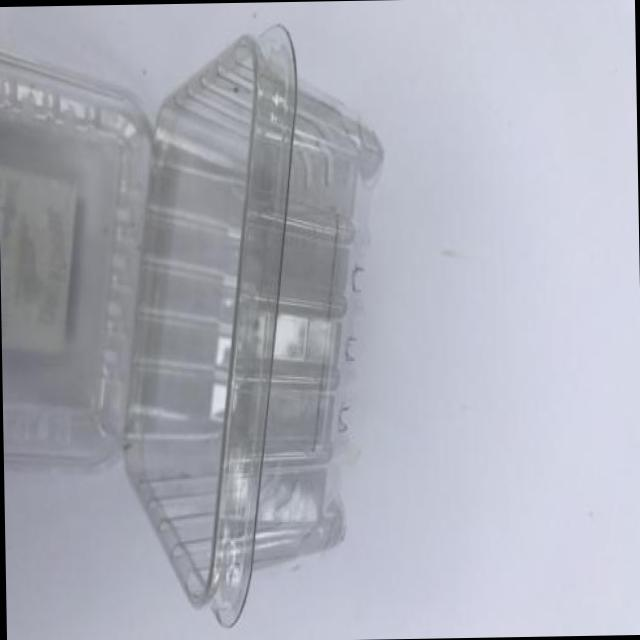Clamshell: (0, 13, 394, 640)
